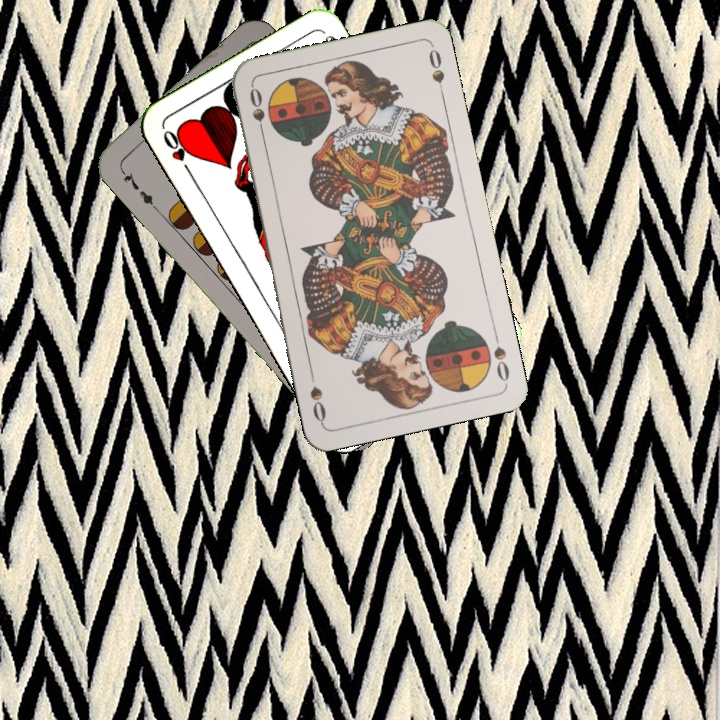E7: (116, 164, 160, 213)
HO: (159, 125, 196, 179)
SO: (245, 83, 268, 142), (489, 327, 512, 384)
